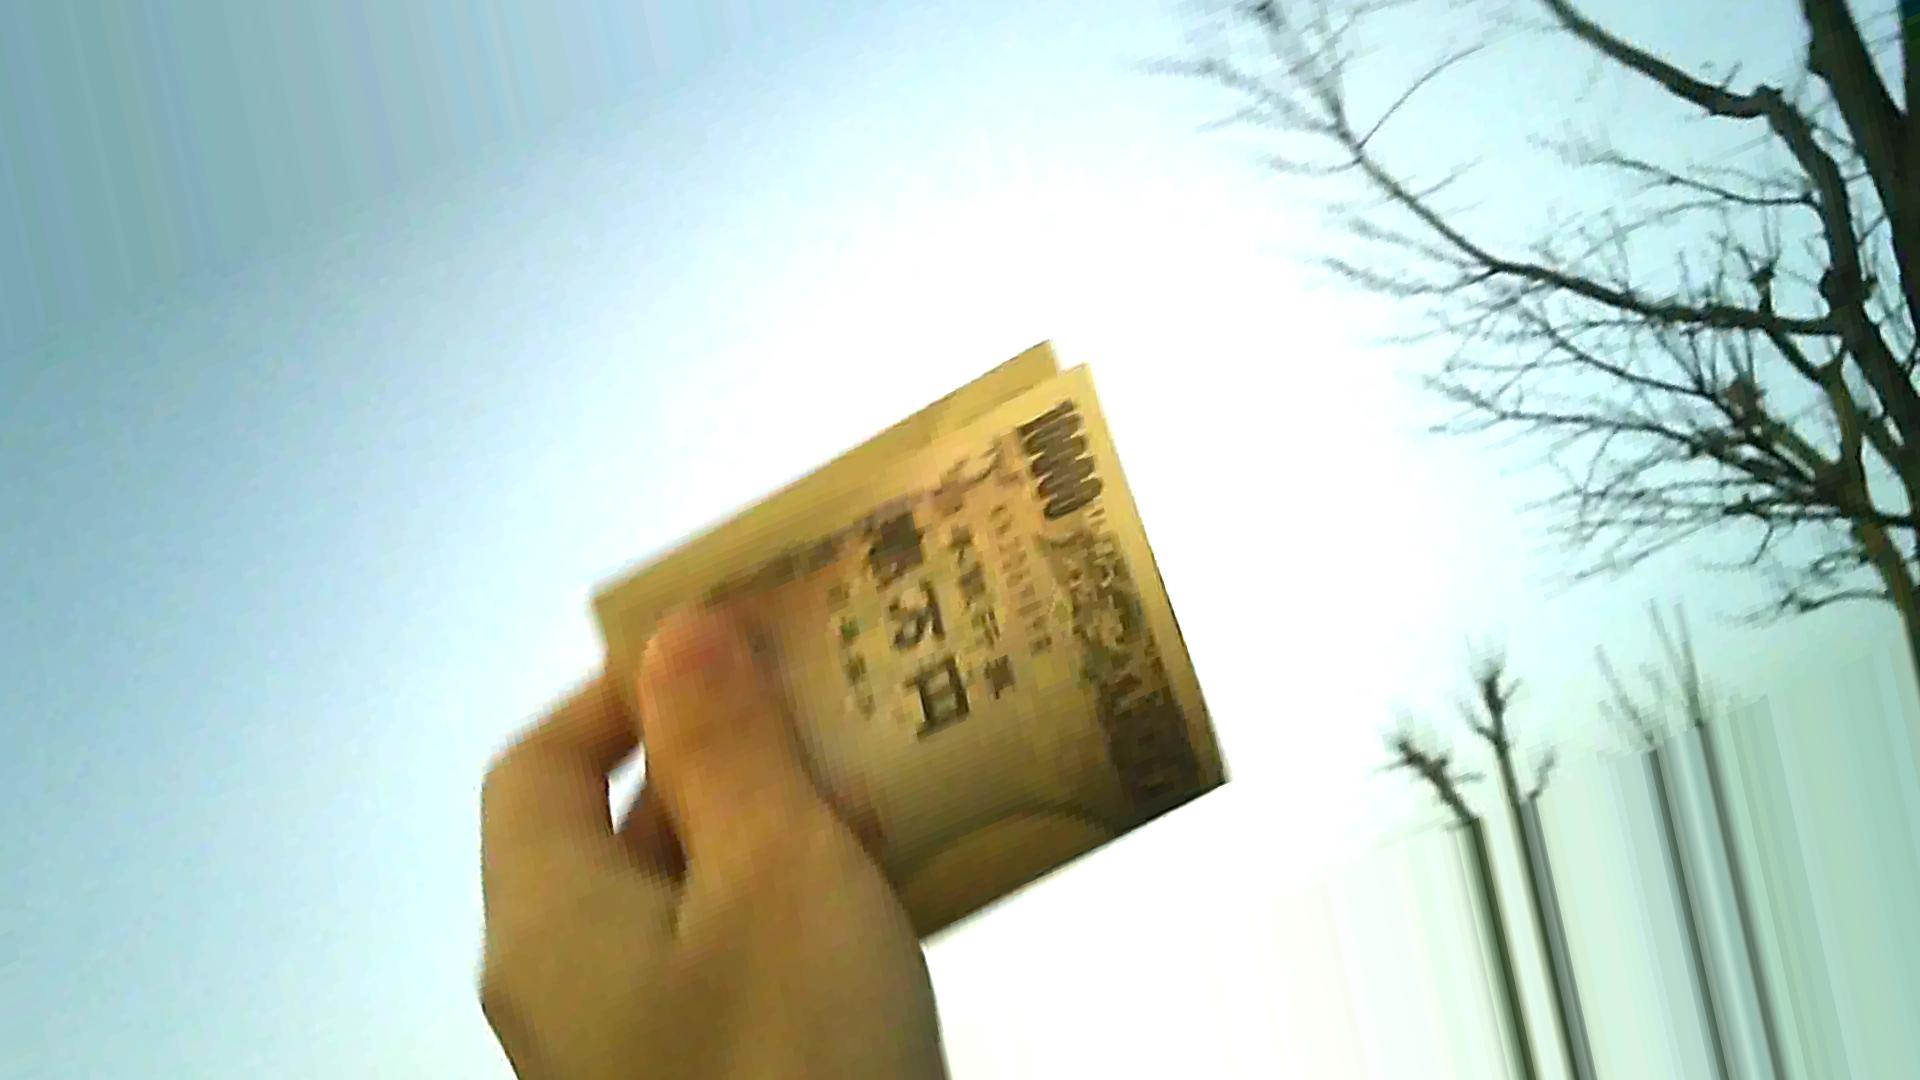10,000 Yen: (564, 316, 1197, 989)
